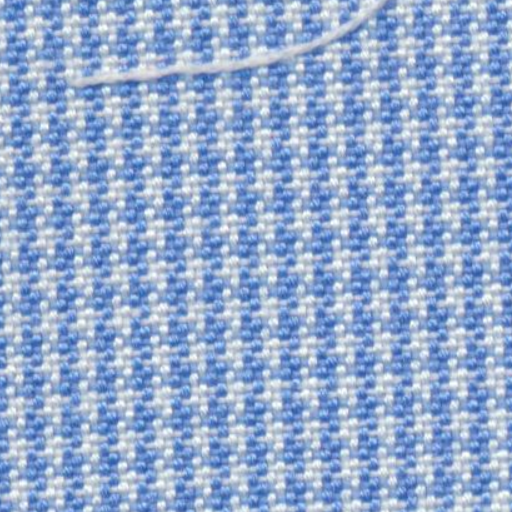DuanSha: (45, 8, 404, 92)
